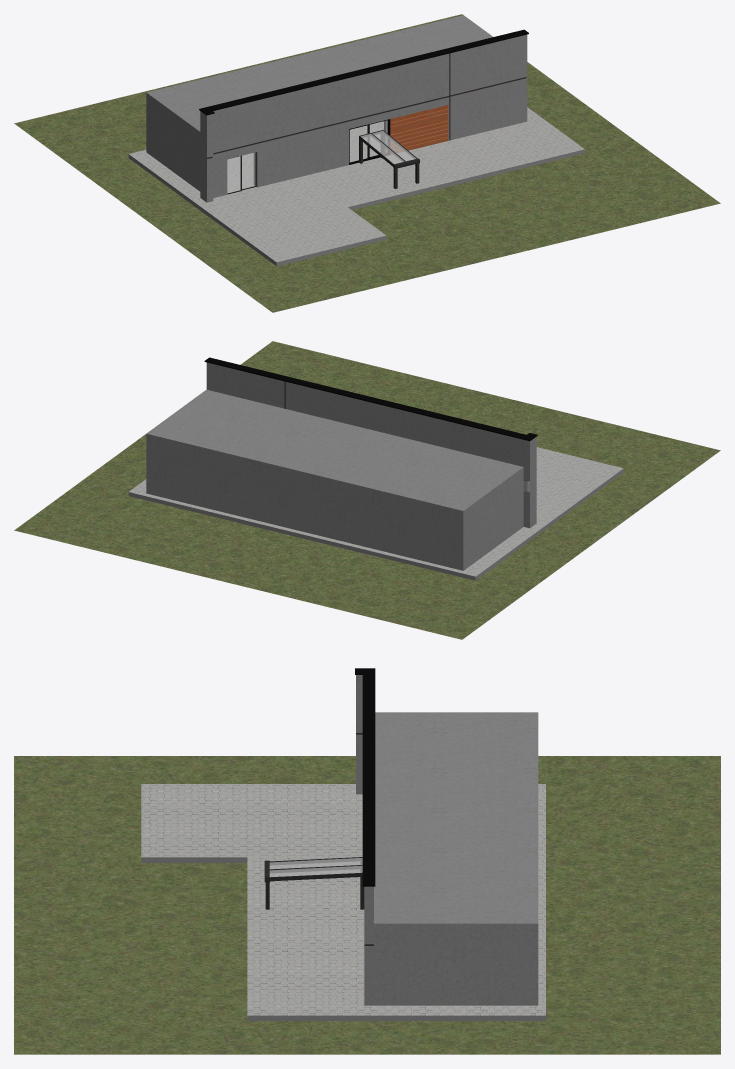
Rendered from vereanda_express.glb.
3 renders of one model, top to bottom at view 1: azimuth 30°, elevation 25°; view 2: azimuth 150°, elevation 25°; view 3: azimuth 270°, elevation 25°, orthographic. The views are drawn at different scales.
Visible parts, largest first — view 1: Building, Glass_opal; view 2: Building; view 3: Building, Glass_opal, Top_alu_1.
Part boxes in pixels (x1=…): Building: x1=14, y1=14, x2=720, y2=312; Glass_opal: x1=361, y1=131, x2=416, y2=164; Building: x1=14, y1=341, x2=720, y2=639; Building: x1=14, y1=668, x2=720, y2=1054; Glass_opal: x1=269, y1=857, x2=362, y2=877; Top_alu_1: x1=269, y1=857, x2=362, y2=881.
Bounding box in the file's own units: 23.43 × 4.72 × 23.43.
Materials: 9 (4 with a texture image).
